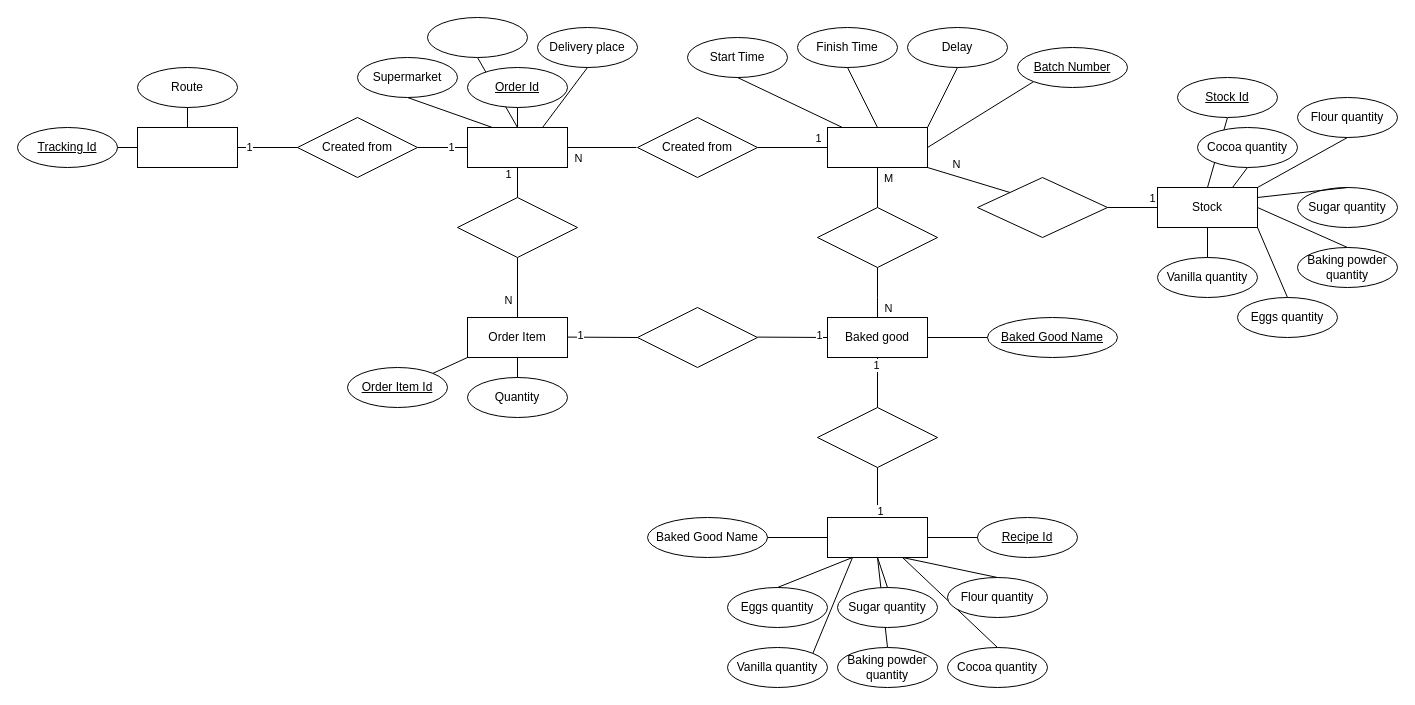
This 1415x705 diagram has some shape labels left out. The centre of each missing label's shape, as x and y in pixels:
Batch: the point at 877,147
Consists of: the point at 877,437
Contains: the point at 517,227
Delivery date: the point at 477,37
Depends on: the point at 877,237
Ensures availability: the point at 1042,207
Has: the point at 697,337
Order: the point at 517,147
Packet: the point at 187,147
Recipe: the point at 877,537
